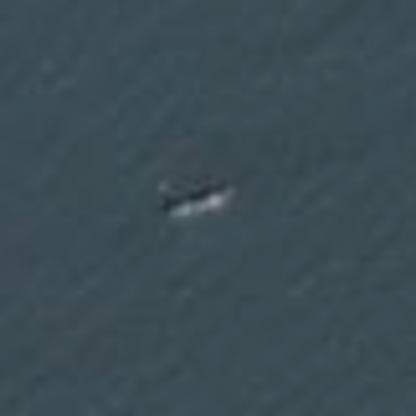ship: (158, 176, 240, 224)
